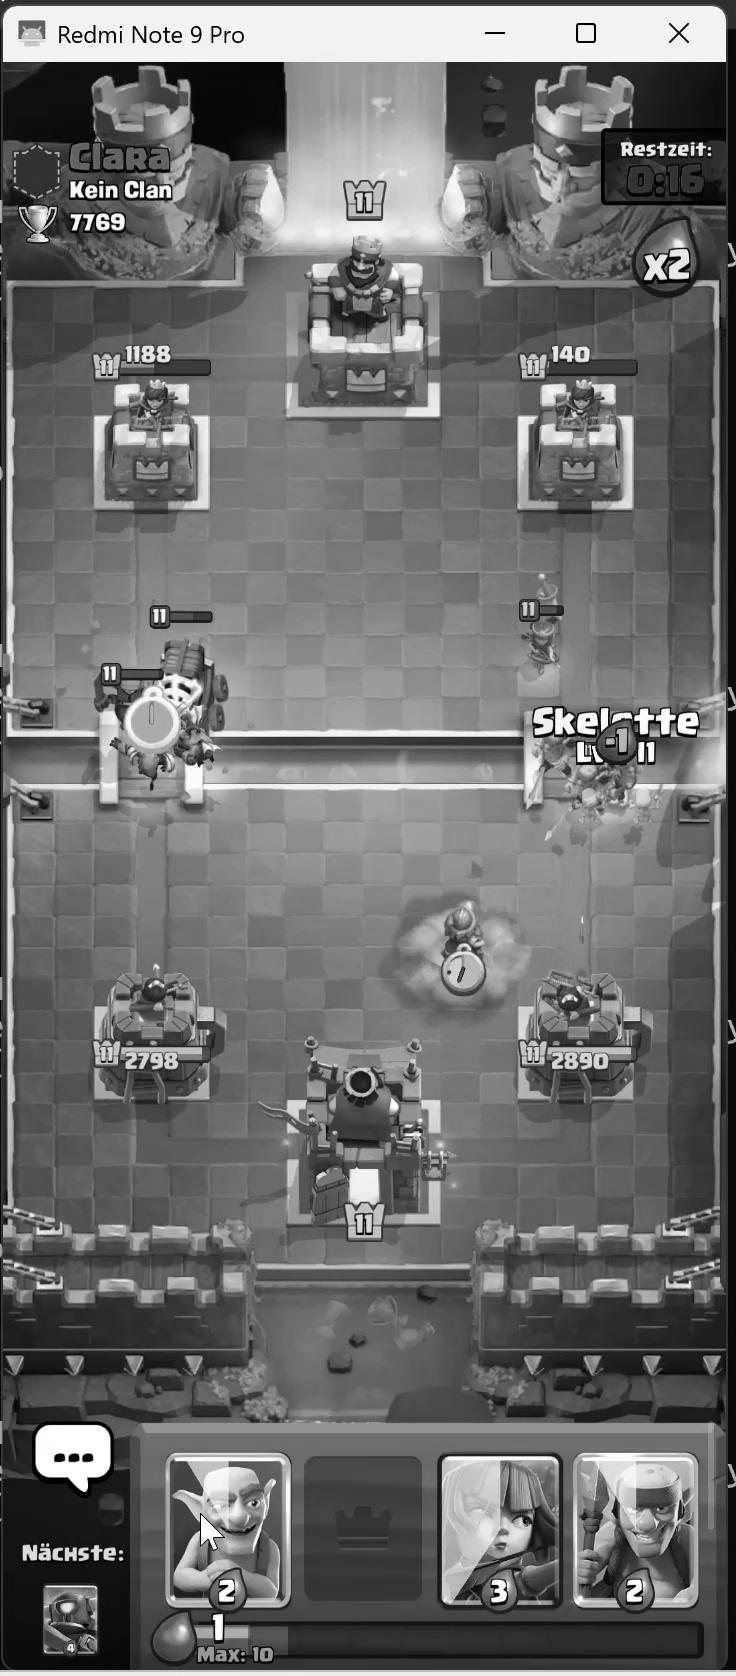archere: (532, 607, 562, 665)
gargouille: (131, 731, 179, 786), (175, 716, 216, 760)
gobelin_lances: (534, 728, 579, 773), (573, 751, 606, 801), (614, 736, 646, 786)
mini_PEKKA: (105, 670, 151, 726)
mousquetaire: (437, 895, 491, 975)
zappy: (150, 631, 222, 730)
